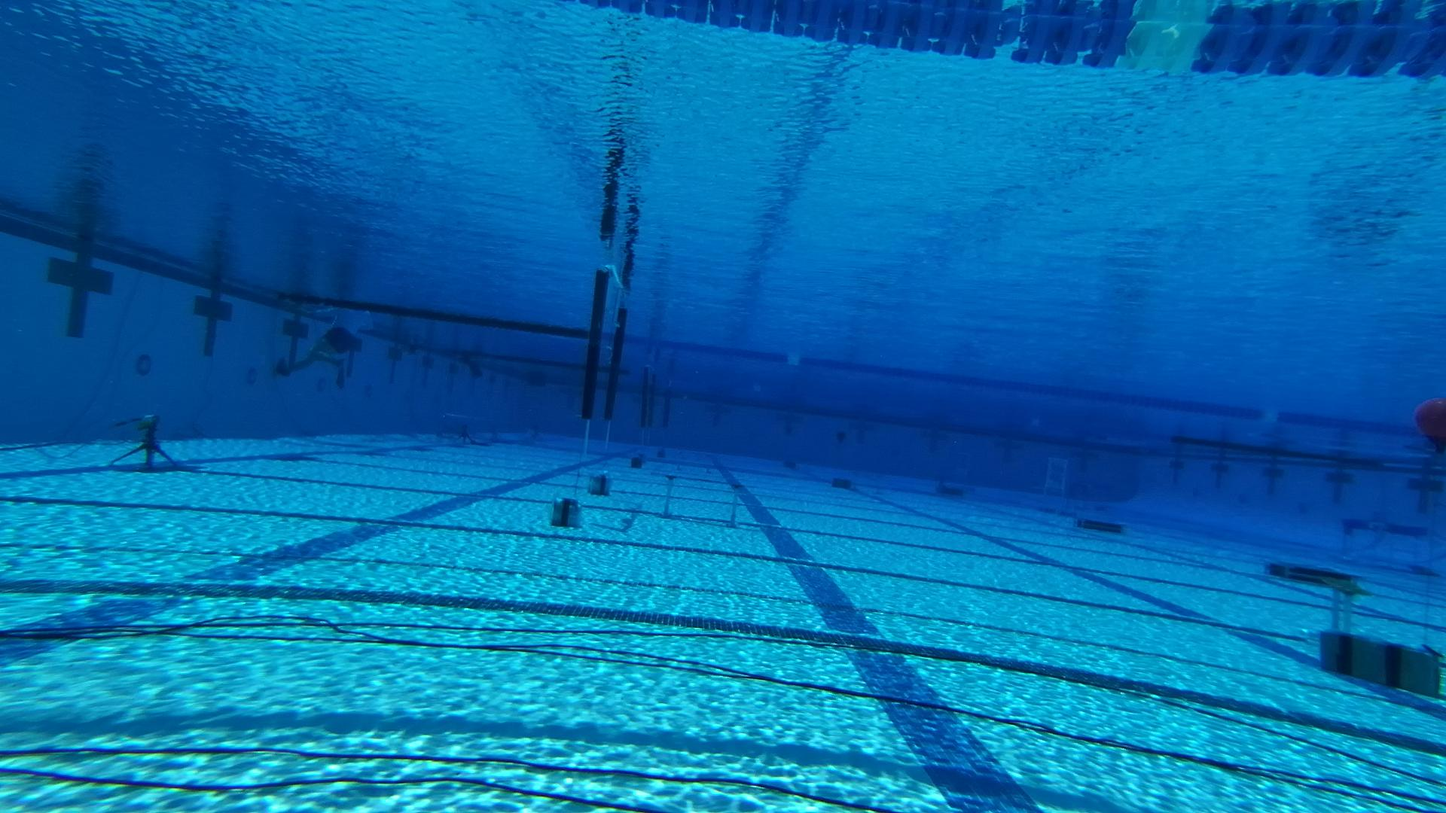buoy: (1413, 394, 1444, 449), (836, 428, 850, 445), (786, 421, 795, 434)
coral-box-side: (1342, 513, 1427, 569), (1069, 484, 1110, 512)
dropper-box-side: (1256, 554, 1365, 590), (1322, 580, 1375, 620), (1071, 520, 1125, 540), (931, 486, 967, 498)
path: (651, 475, 757, 514), (672, 446, 720, 468)
red octagon: (1054, 477, 1062, 484), (1050, 473, 1055, 480), (1059, 466, 1064, 472), (1051, 462, 1055, 469)
